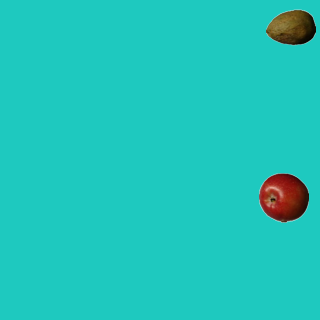Apple Braeburn: (258, 172, 308, 222)
Papaya: (265, 2, 315, 52)
